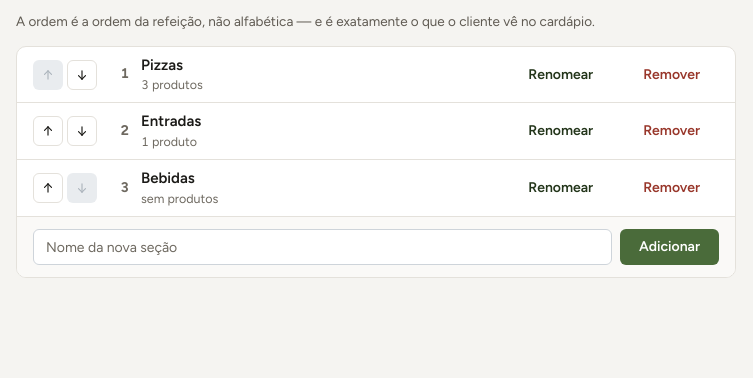
CategoriesPage › nome repetido, com outra caixa, nem chega à API
Expected: the list item "Bebidas" is shown, left=17, top=160, right=735, bottom=217
In the field labelled "Nome da nova seção": (322, 247) left=33, top=229, right=612, bottom=265, type "bebidas"
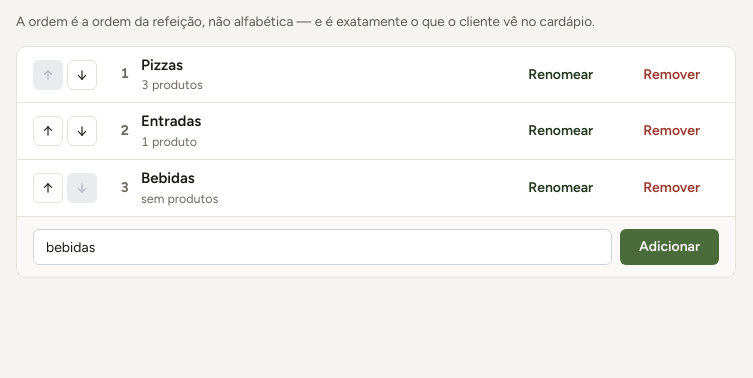
Click the button "Adicionar": (670, 247) left=620, top=229, right=719, bottom=265
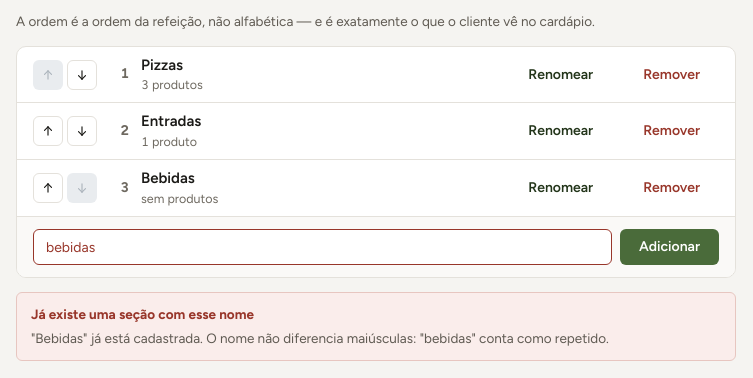
Expected: the text "Já existe uma seção com esse nome" is shown, left=31, top=306, right=254, bottom=322
Expected: the text "\"Bebidas\" já está cadastrada. O nome não diferencia maiúsculas: \"bebidas\" conta como repetido." is shown, left=31, top=330, right=609, bottom=346
